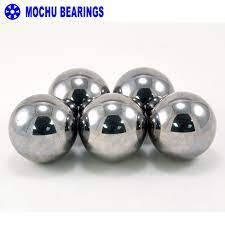steelball: (7, 92, 77, 166), (147, 89, 218, 159)
